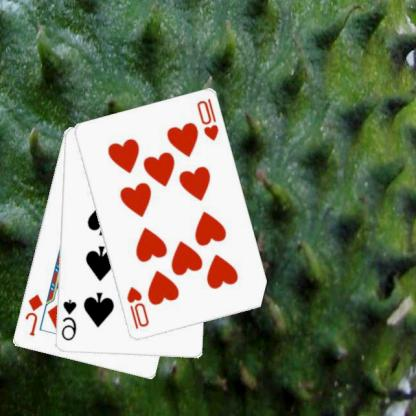10H: (125, 284, 152, 330), (196, 96, 222, 142)
9S: (60, 297, 80, 343)
JD: (24, 291, 46, 338)
